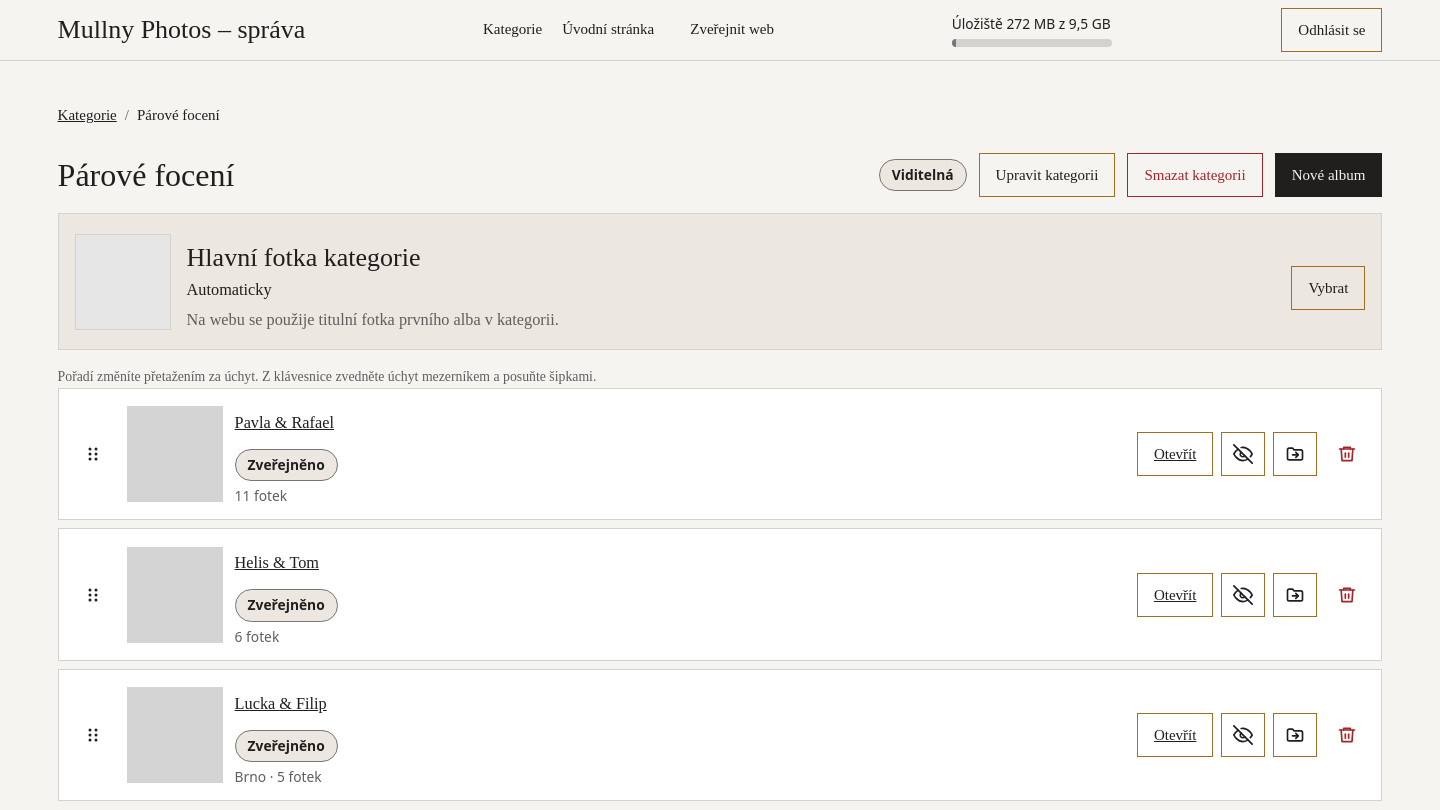
delete album › also works from the album row of the category screen
This screenshot has width=1440, height=810.
Expected: the list named "Seznam alb" is shown, x1=58 y1=388 x2=1382 y2=801
Click the button named "Smazat album: Helis & Tom".
click(1347, 594)  # box x1=1325 y1=572 x2=1369 y2=616
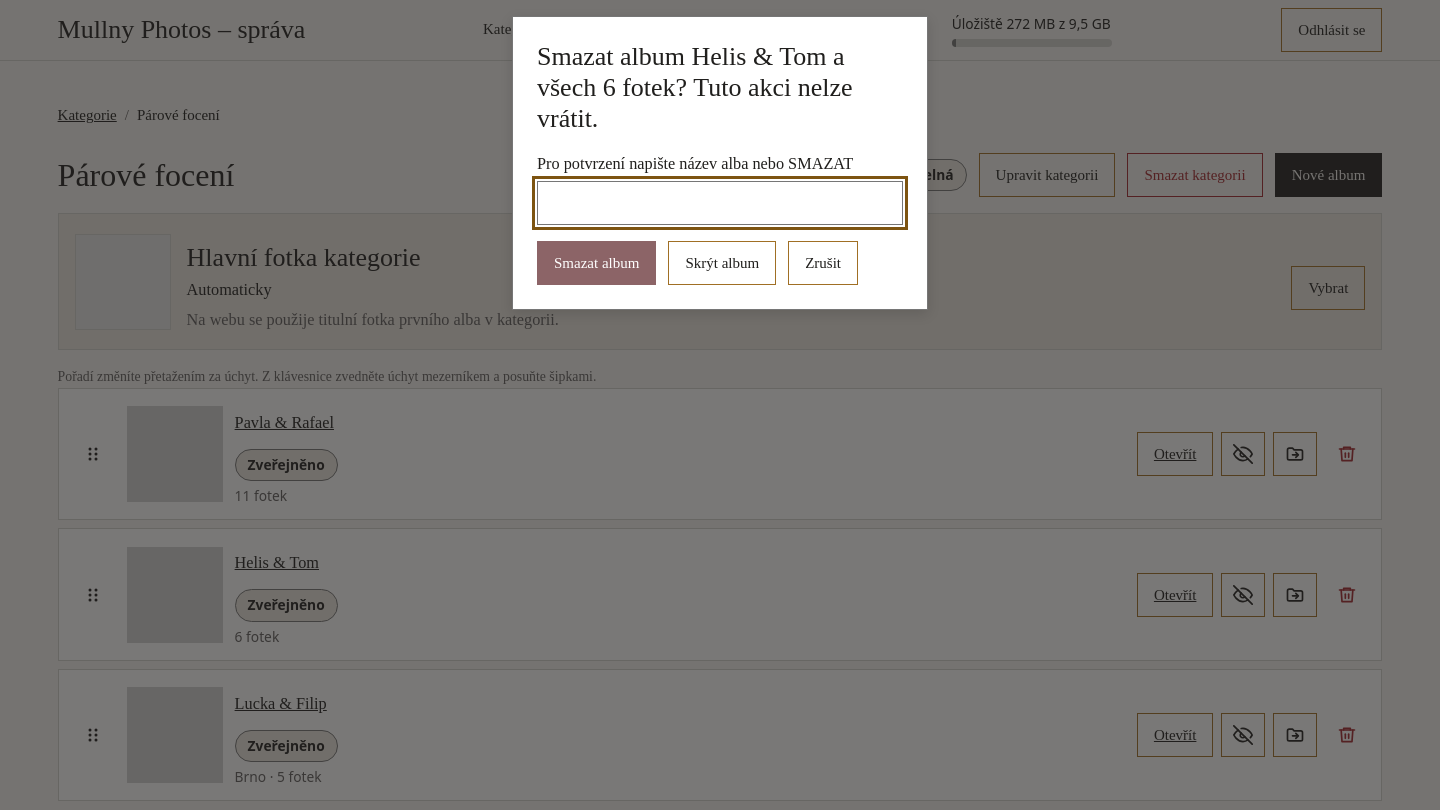
Type "SMAZAT" into the field labelled "Pro potvrzení napište název alba nebo SMAZAT".
click(720, 203); type("SMAZAT")  # box x1=537 y1=181 x2=903 y2=225
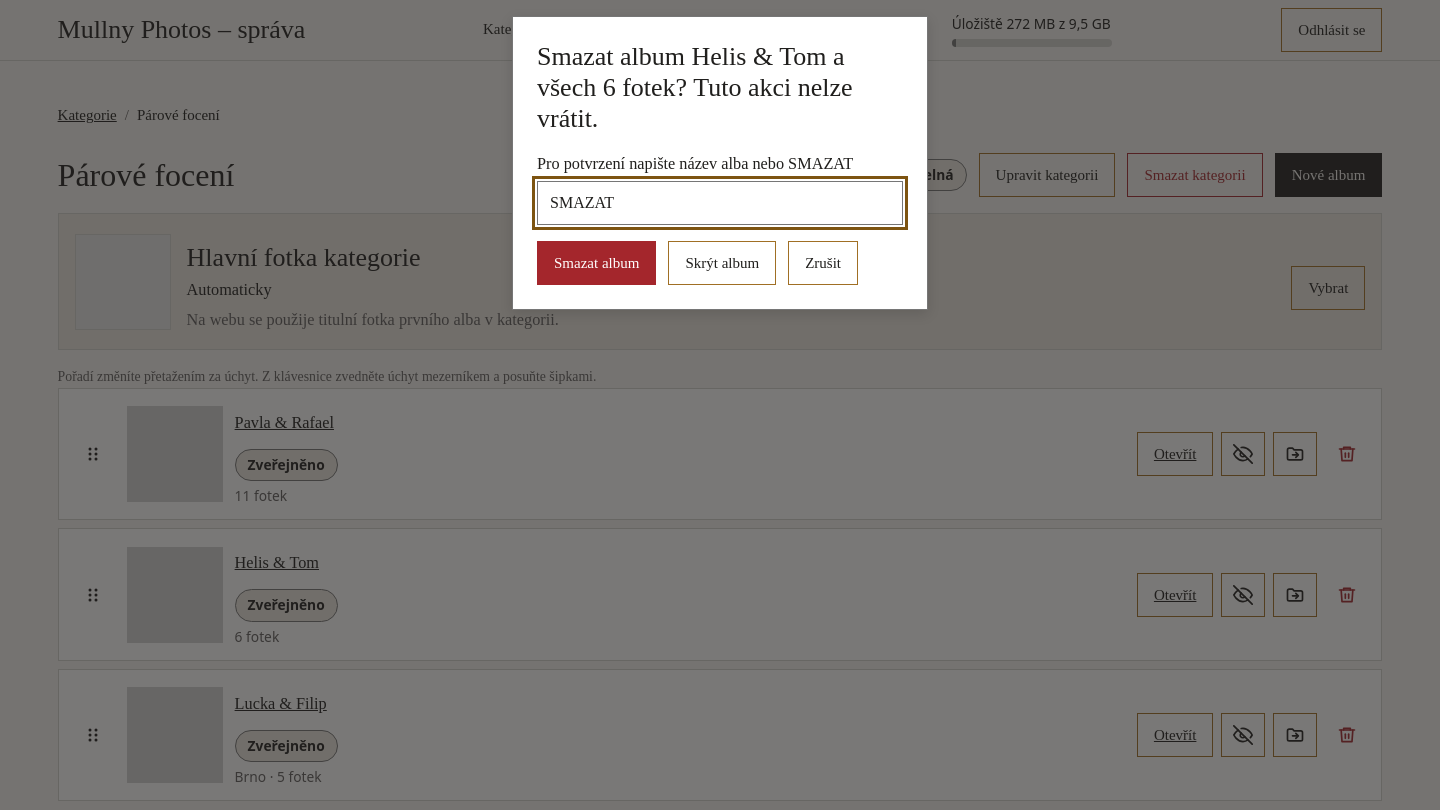
Click the button "Smazat album".
click(597, 263)  # box x1=537 y1=241 x2=656 y2=285
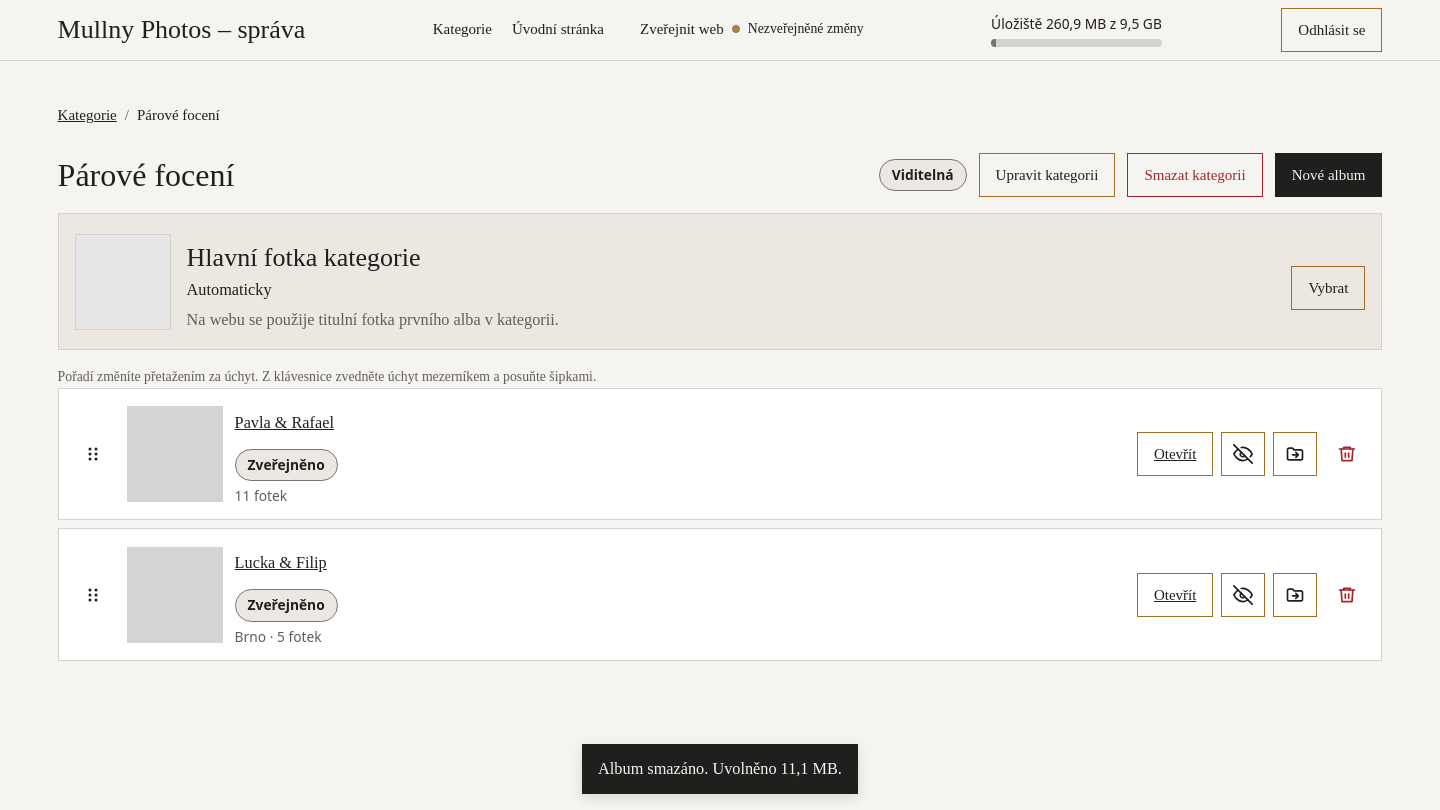
Now the dialog is gone
